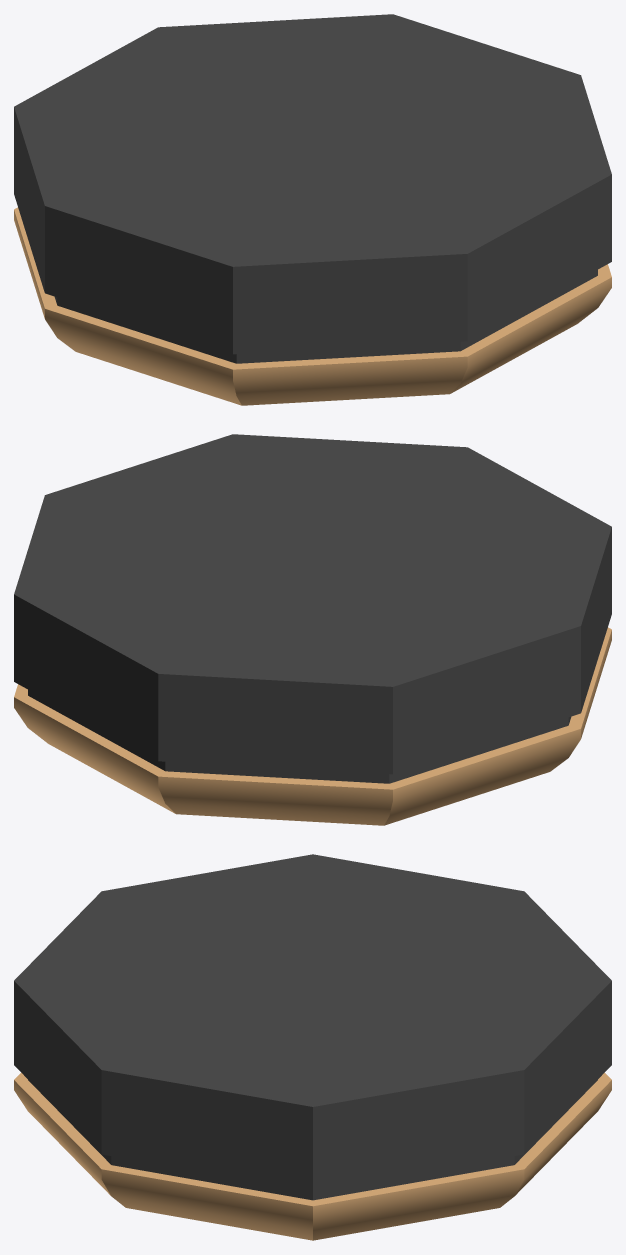
Rendered from Light_04.fbx.
3 views of the same model, one above another, from view 1: azimuth 30°, elevation 25°; view 2: azimuth 150°, elevation 25°; view 3: azimuth 270°, elevation 25° (orthographic). The views are drawn at different scales.
Visible parts, largest first — view 1: Light_04; view 2: Light_04; view 3: Light_04.
Boxes of the visible parts, bbox=[...] form: Light_04: bbox=[14, 14, 611, 405]; Light_04: bbox=[14, 434, 611, 825]; Light_04: bbox=[14, 854, 611, 1240].
Size of the model in its own units: 0.3733 by 0.1021 by 0.3733.
